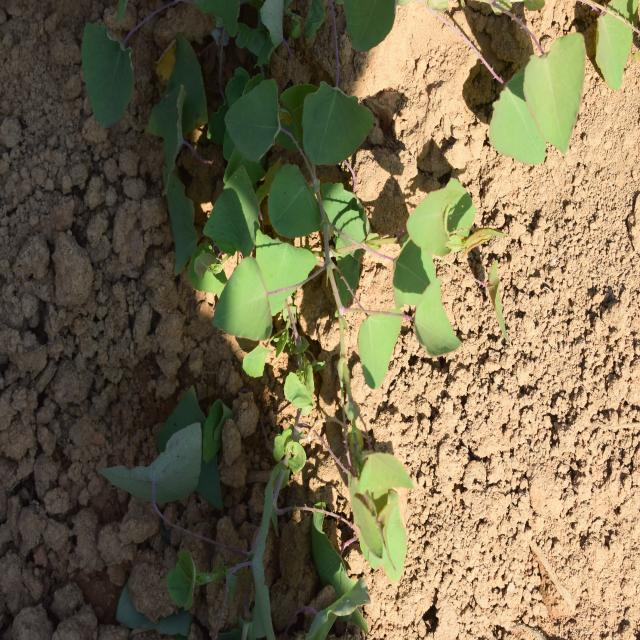Asiatic_Smartweed: (194, 80, 468, 380), (464, 4, 623, 163), (308, 434, 429, 584), (63, 0, 150, 138)
